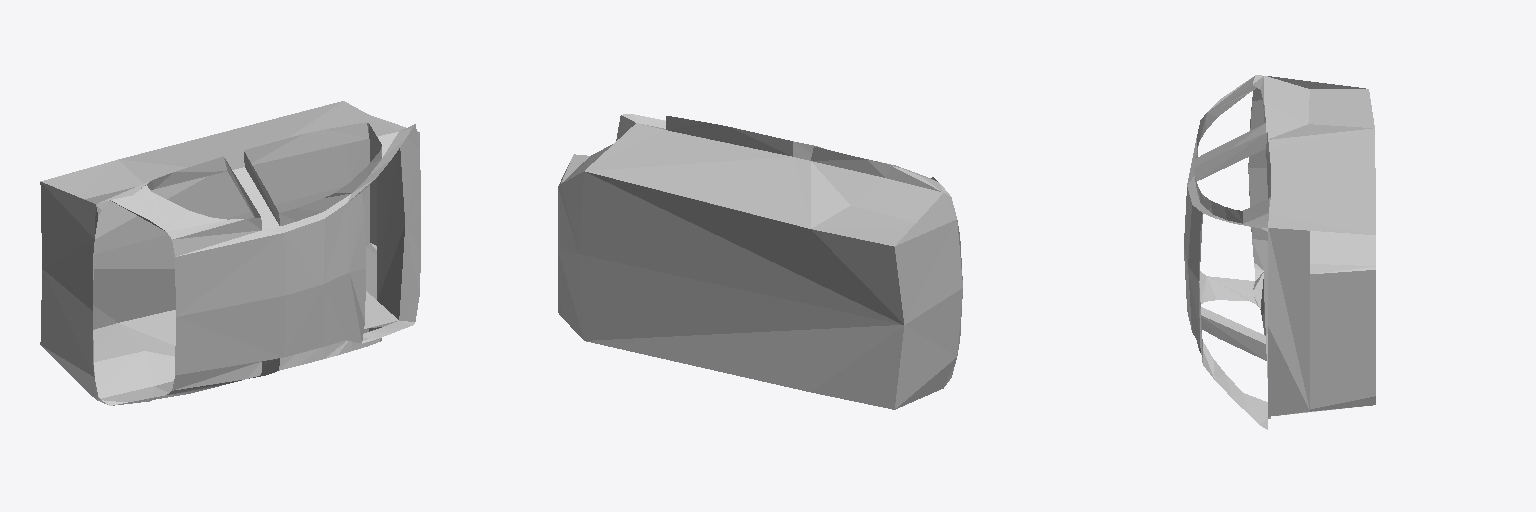
Rendered from interior_trim.obj.
The picture shows the model from 3 angles: view 1: azimuth 30°, elevation 25°; view 2: azimuth 150°, elevation 25°; view 3: azimuth 270°, elevation 25°; orthographic projection.
Visible parts, largest first — view 1: default; view 2: default; view 3: default.
Part boxes in pixels (x1,y1,x2,y2): default: (40,101,420,405); default: (558,114,962,409); default: (1184,75,1375,429).
Size of the model in its own units: 2.39 by 1.47 by 1.11.